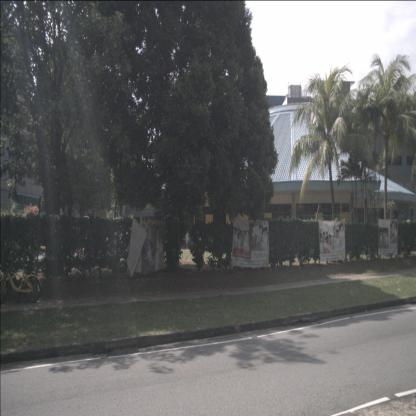human-pedestrian-adult: (186, 230, 190, 250), (186, 232, 188, 250)
vehicle-bicycle: (0, 258, 42, 304)
